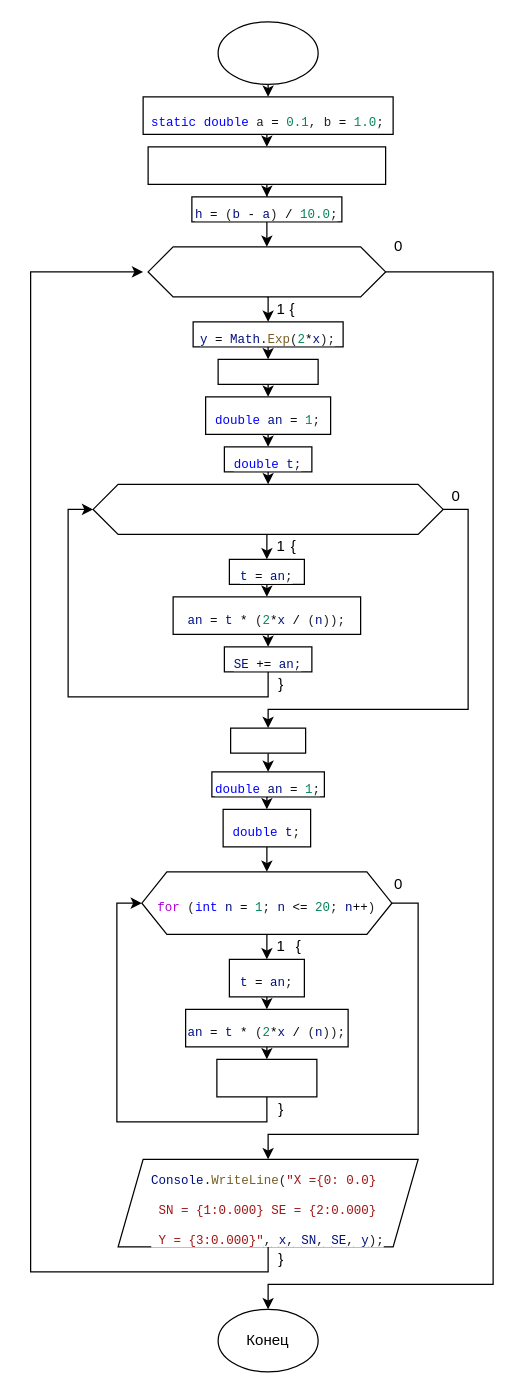
Image size: 525x1394. Some labels were removed from this diagram. Each missing label, with the box of its shape:
for ( int n = 1 ; Math . Abs ( an ) > 0.001 ; n ++ ): (92, 483, 443, 534)
for ( x = a ; x <= b ; x += h ): (147, 246, 386, 297)
SE = 1 ;: (217, 358, 318, 384)
SN += an ;: (216, 1058, 317, 1097)
SN = 1 ;: (229, 727, 306, 753)
static double h, x, y, SN, SE;: (147, 146, 386, 184)
Начало: (217, 21, 318, 84)
